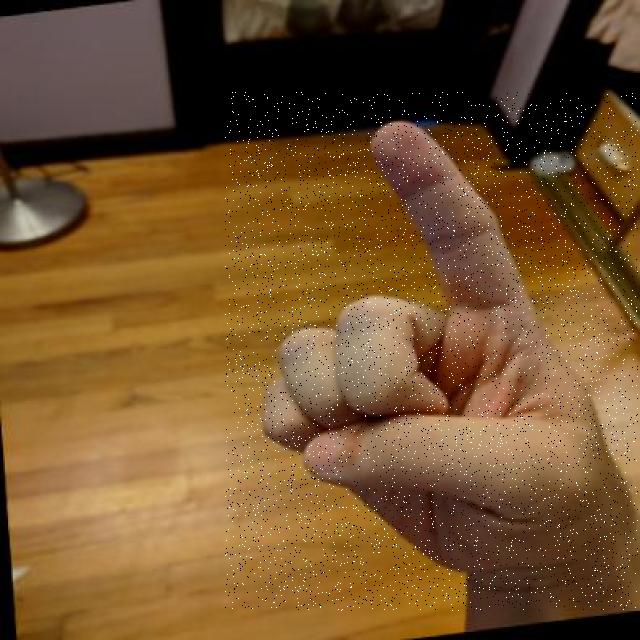D: (225, 92, 638, 611)
